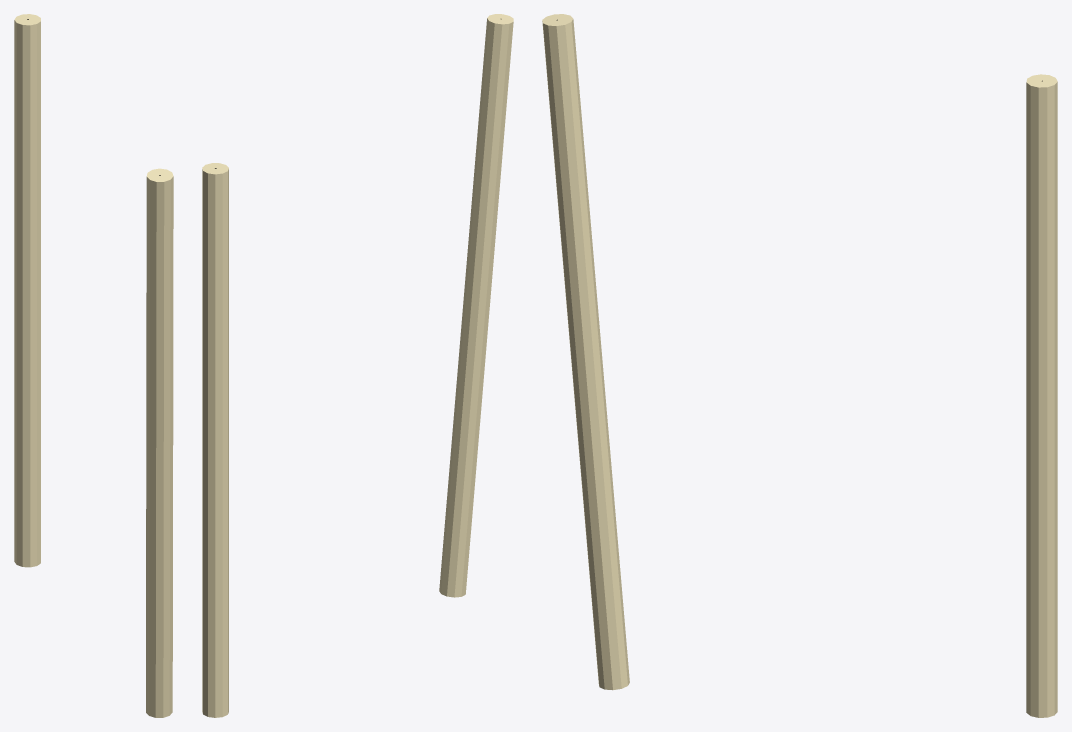
Rendered from tile_319.glb.
3 renders of one model, left to right at view 1: azimuth 30°, elevation 25°; view 2: azimuth 150°, elevation 25°; view 3: azimuth 270°, elevation 25°, orthographic. The views are drawn at different scales.
Bounding box in the file's own units: 1.05 × 5.7 × 4.08.
